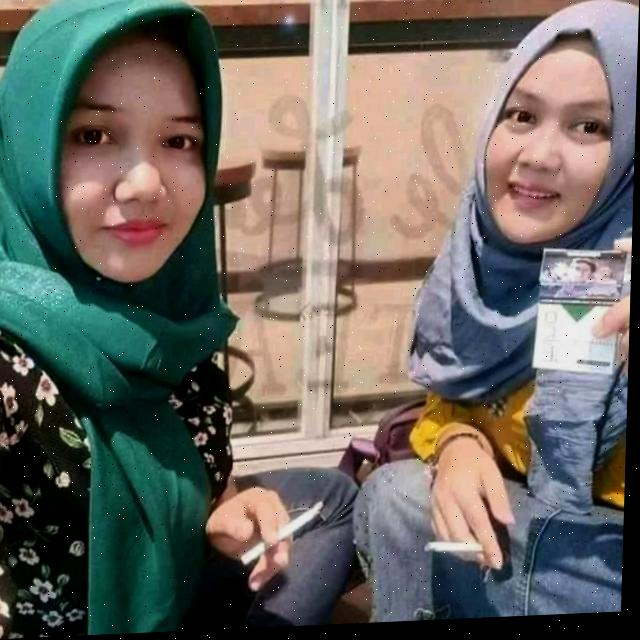cigarette: (243, 504, 328, 570), (427, 544, 487, 560)
